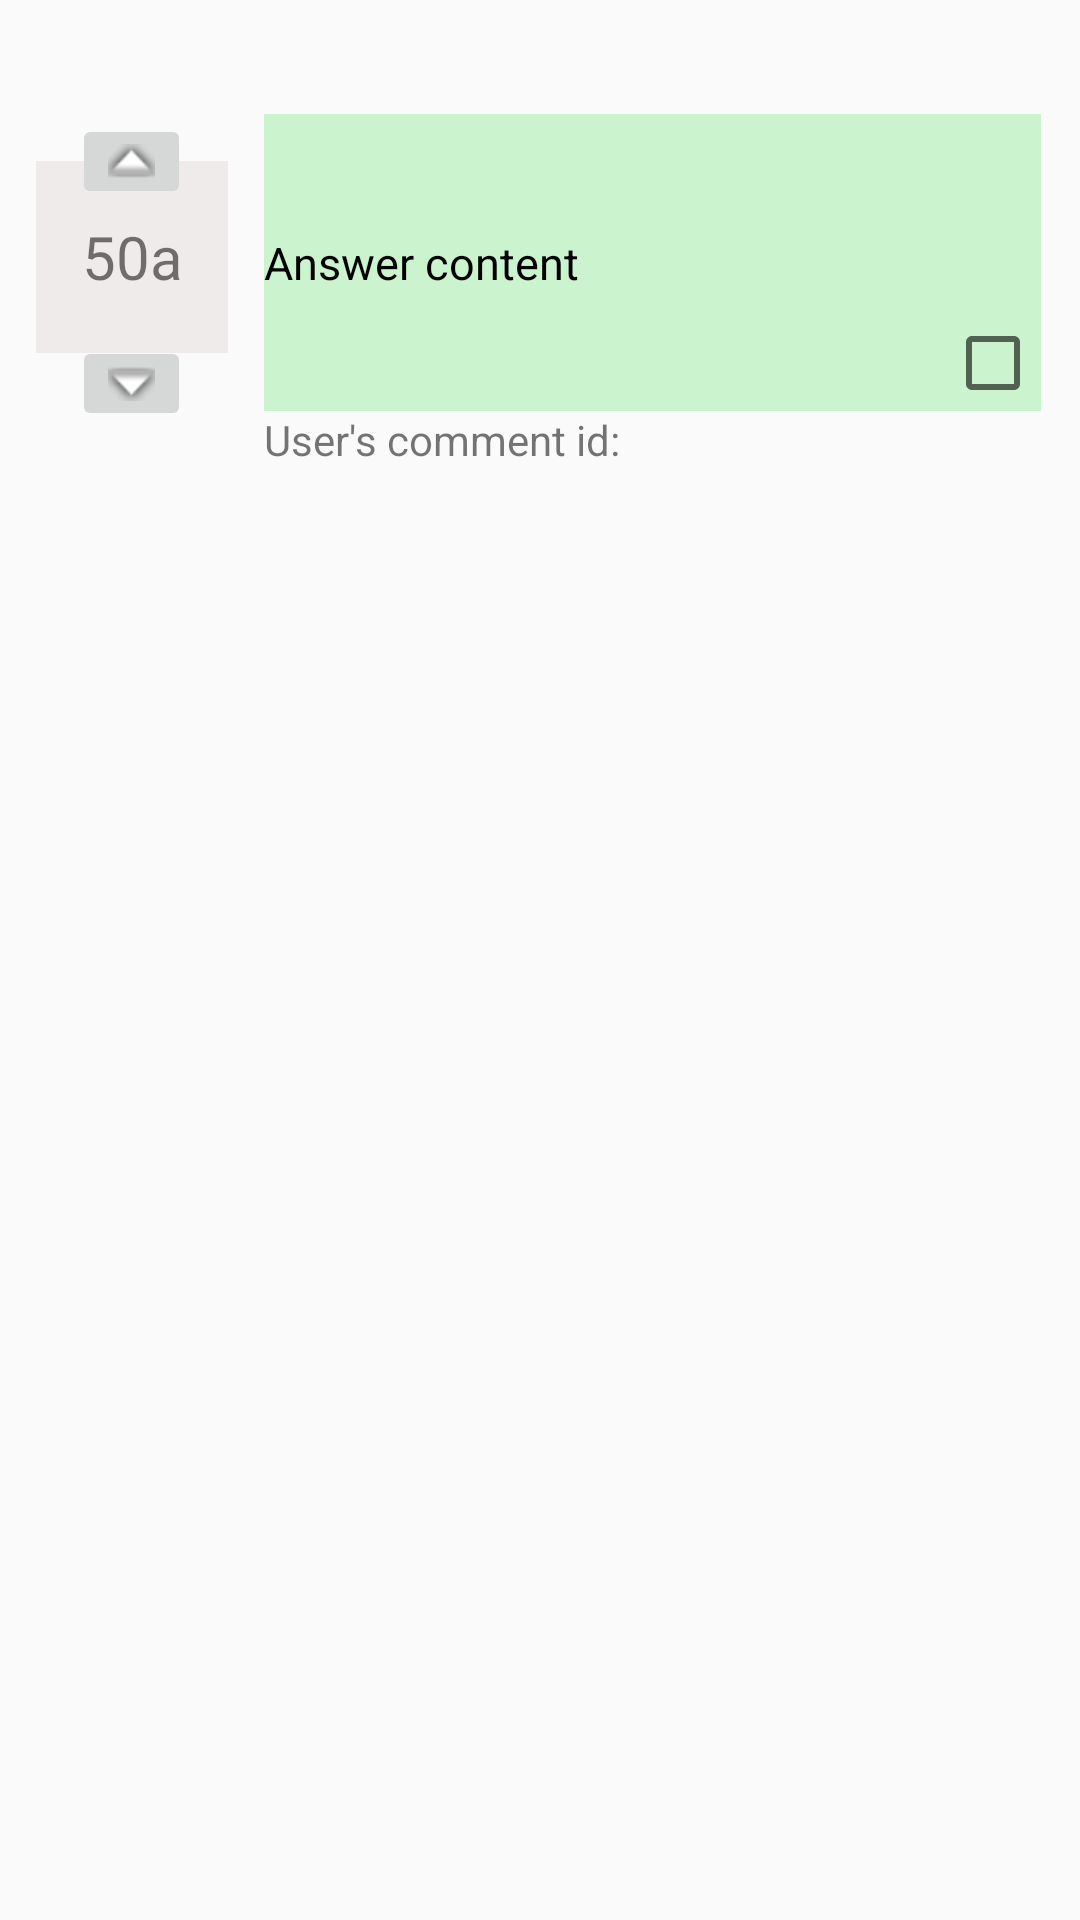

Icons on this 1080*1920 Android screen, each with its box as region(x1, y1, x2, y2):
arrow down float: region(84, 354, 179, 413)
arrow up float: region(84, 132, 179, 191)
